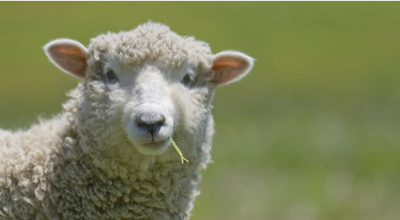koyun: (23, 23, 255, 220)
